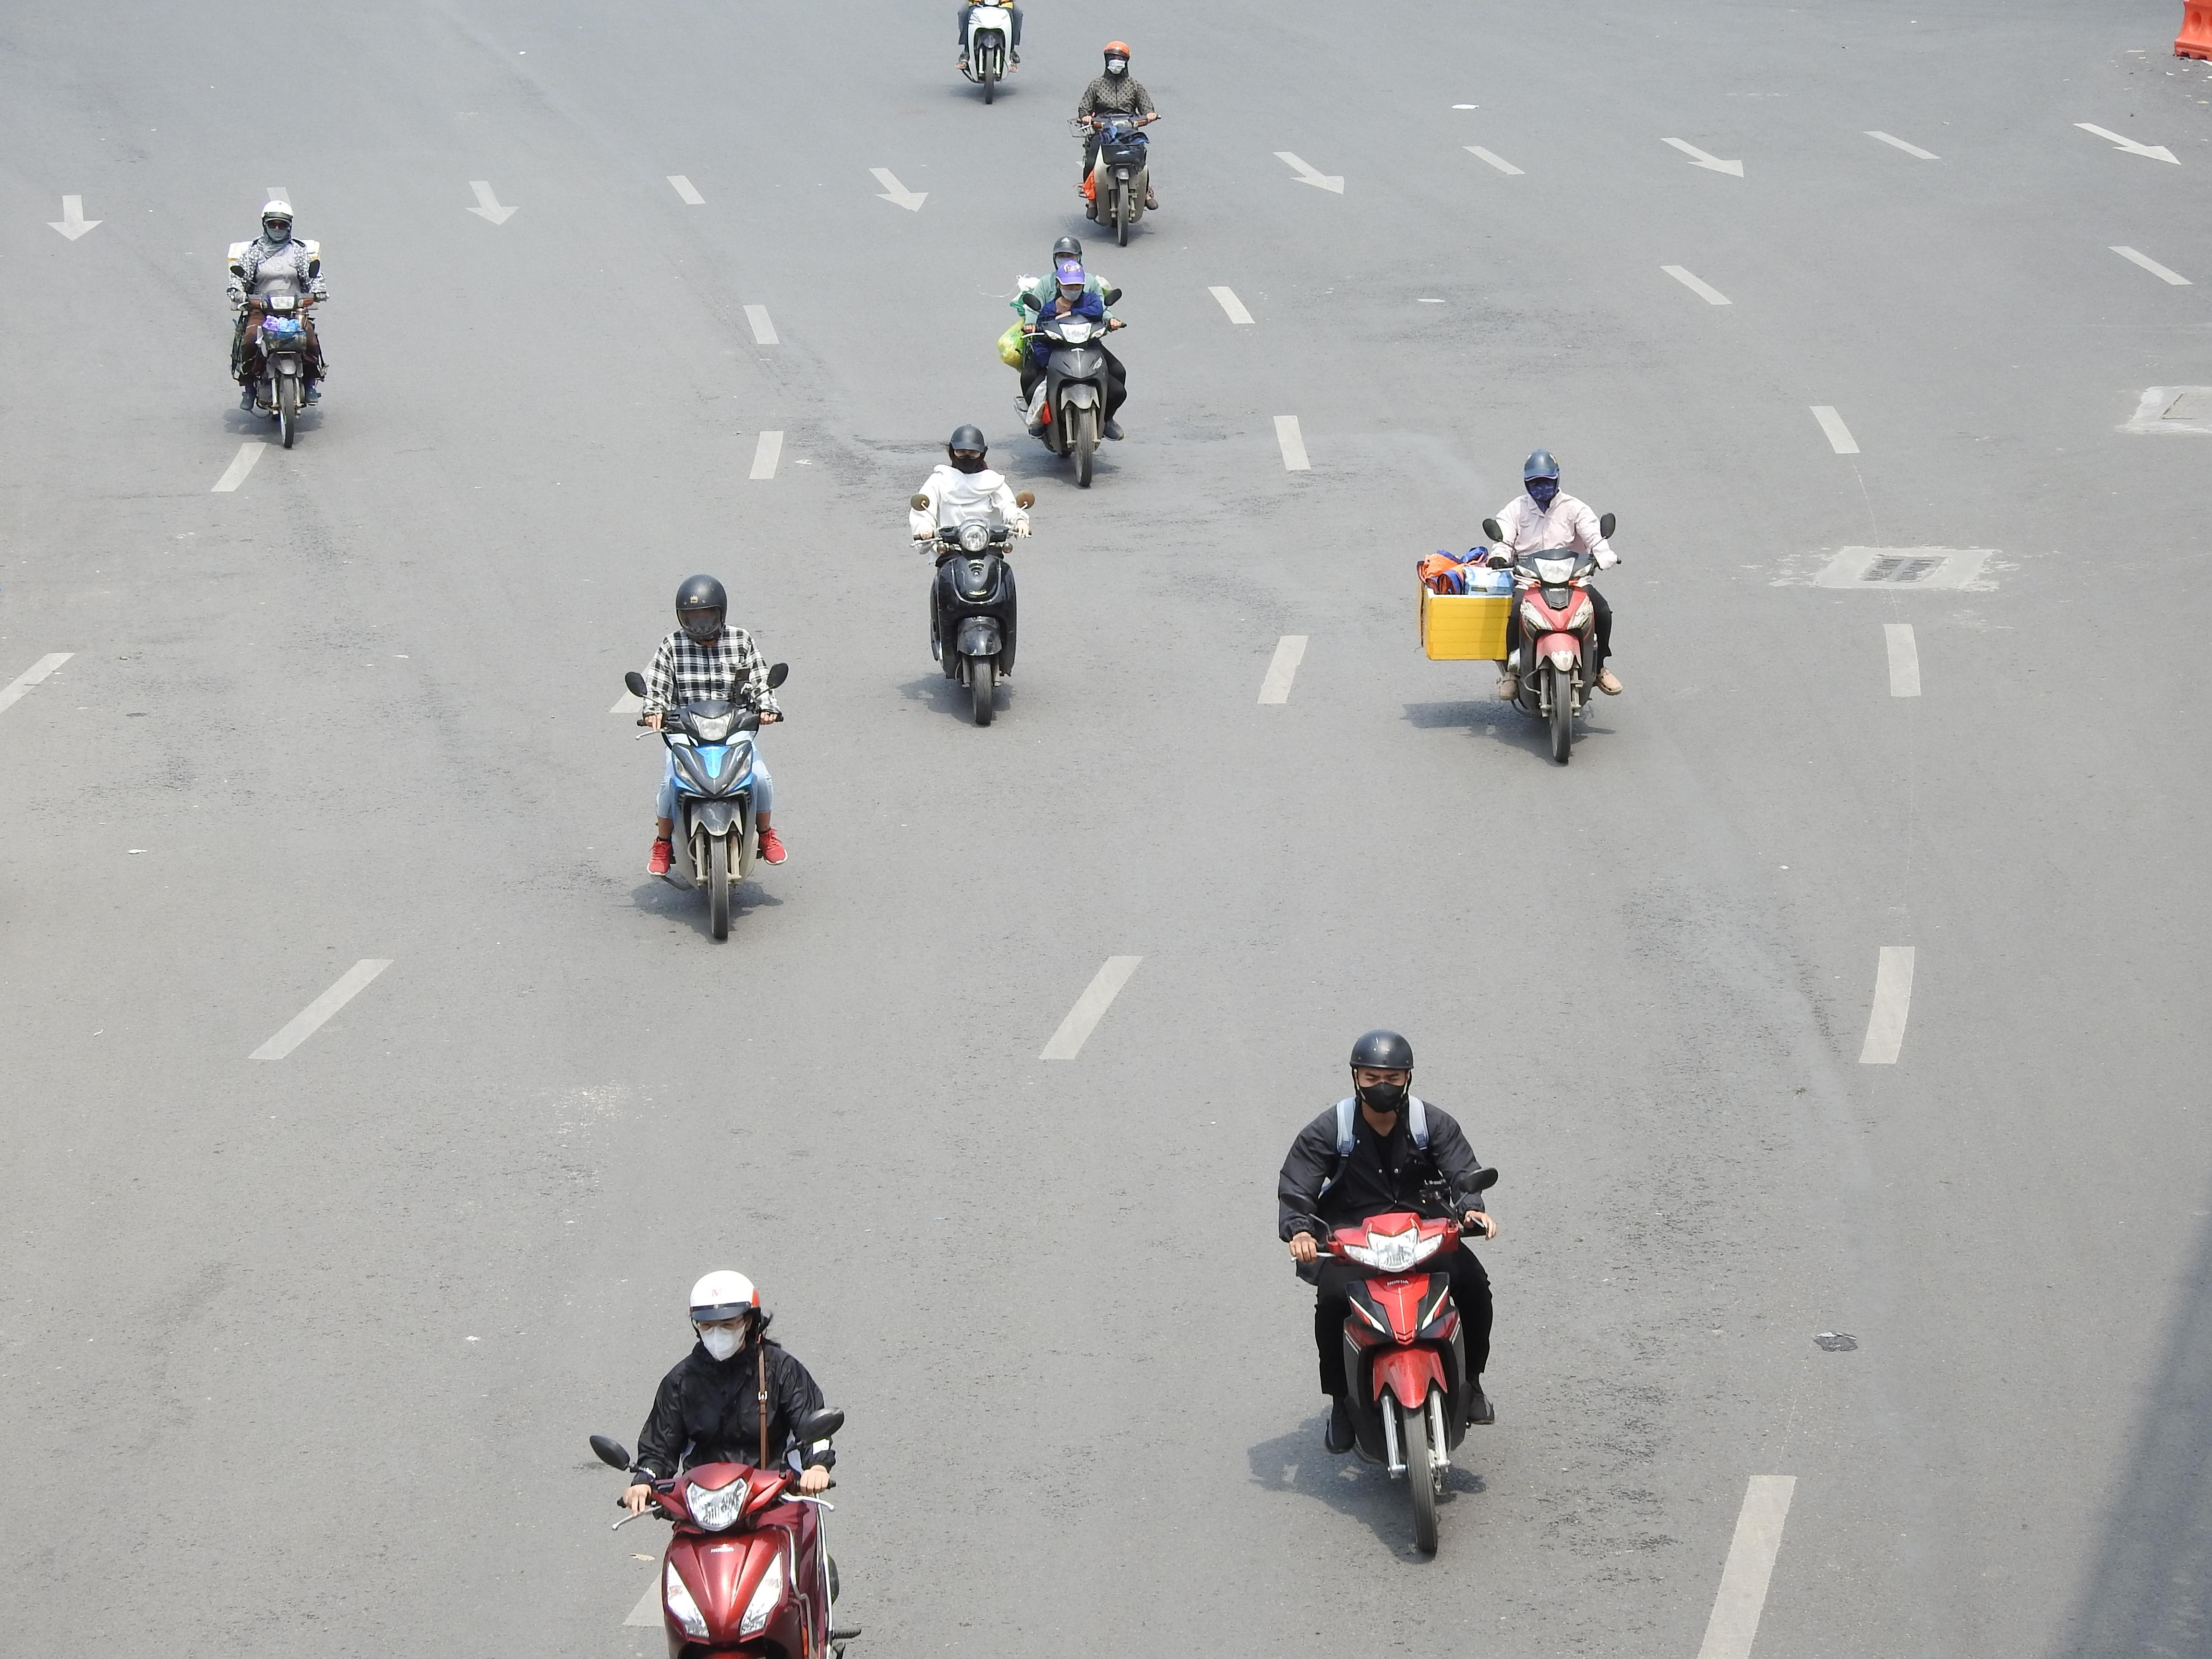motorbike: (1278, 1026, 1498, 1560), (590, 1269, 860, 1659), (629, 572, 789, 945), (1484, 448, 1620, 769), (914, 423, 1029, 728), (1003, 235, 1125, 490), (228, 192, 327, 448), (1075, 42, 1160, 247), (954, 0, 1026, 103)
